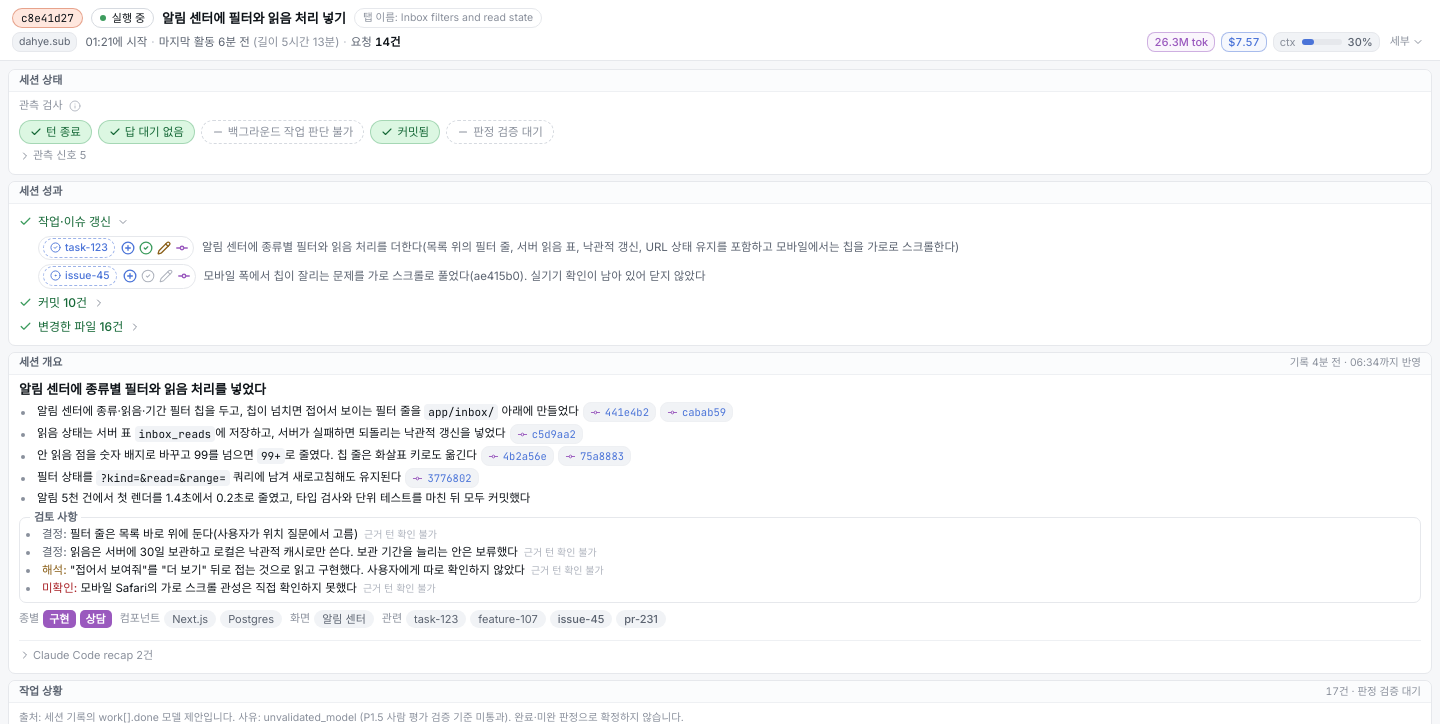
Test case: 머리 › "세부"를 펼치면 패스 A의 큰 지표(토큰 구성, 비용 나눔, 컨텍스트 구성, 도구, 실시간)가 보인다
Click the button "세부" at x=1407, y=42, box [1386,32,1428,52]
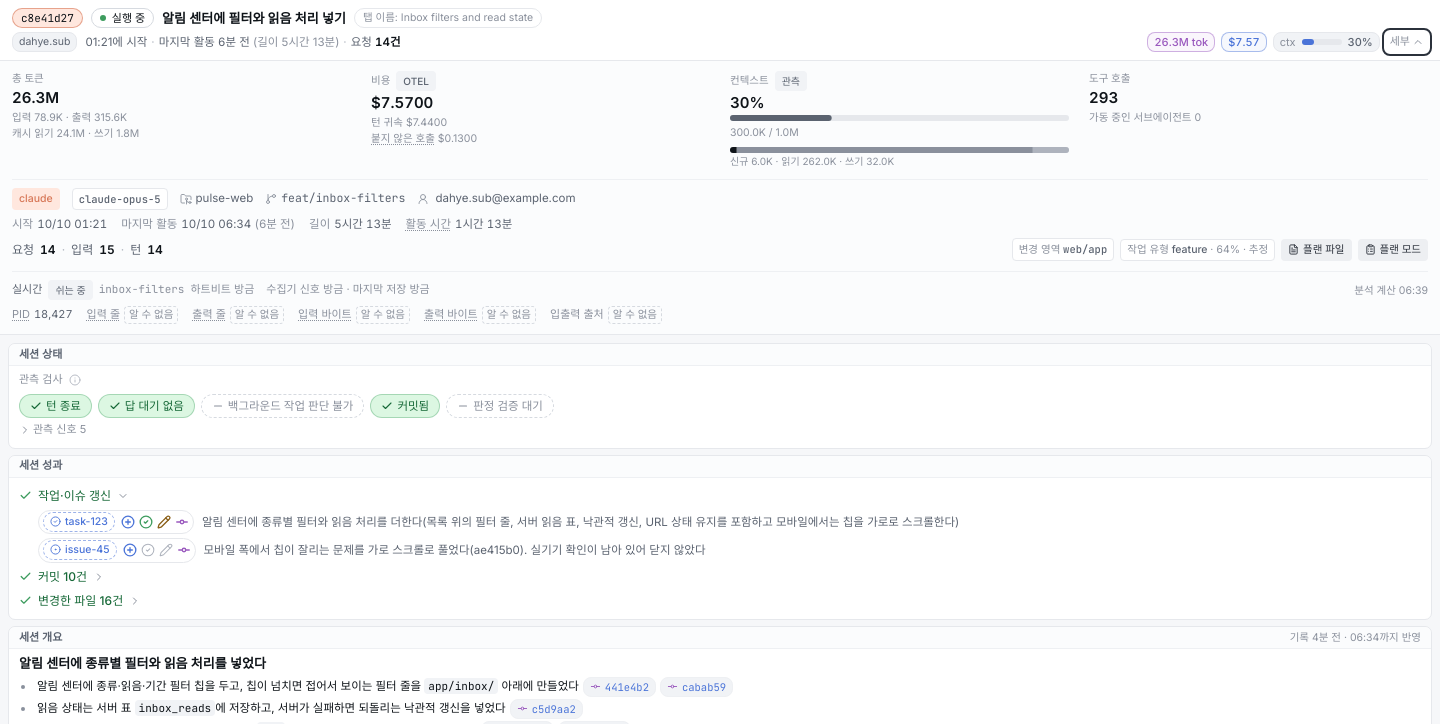
expect the button "세부" is expanded: met, box [1386,32,1428,52]
expect the element named "세션 세부" shows "총 토큰": met, box [12,72,44,85]
expect the element named "세션 세부" shows "캐시 읽기": met, box [12,127,56,140]
